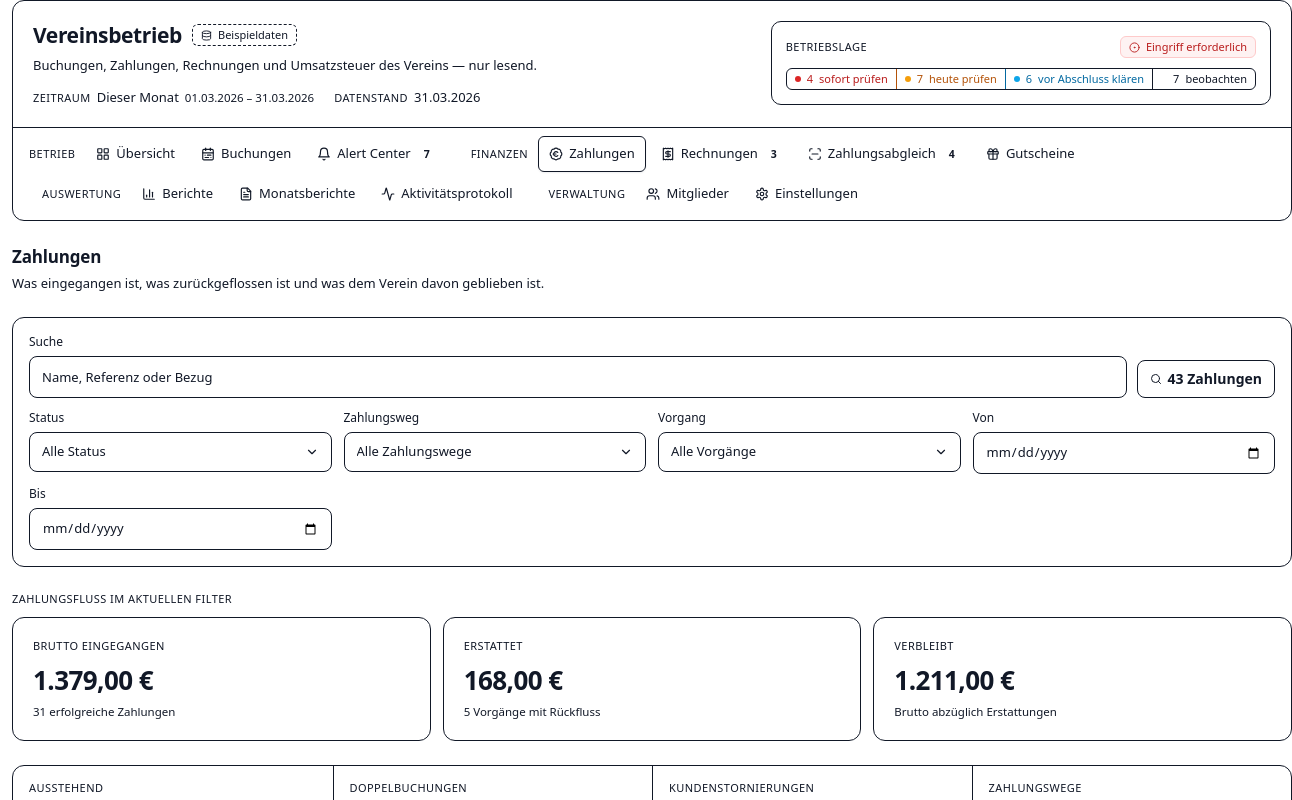
Test: active filters are visible and individually removable › names each active facet rather than only counting them
The image size is (1292, 800).
Step 1. Type "Schöllhammer" into the field labelled "Suche" → (578, 377), box [30,357,1126,397]
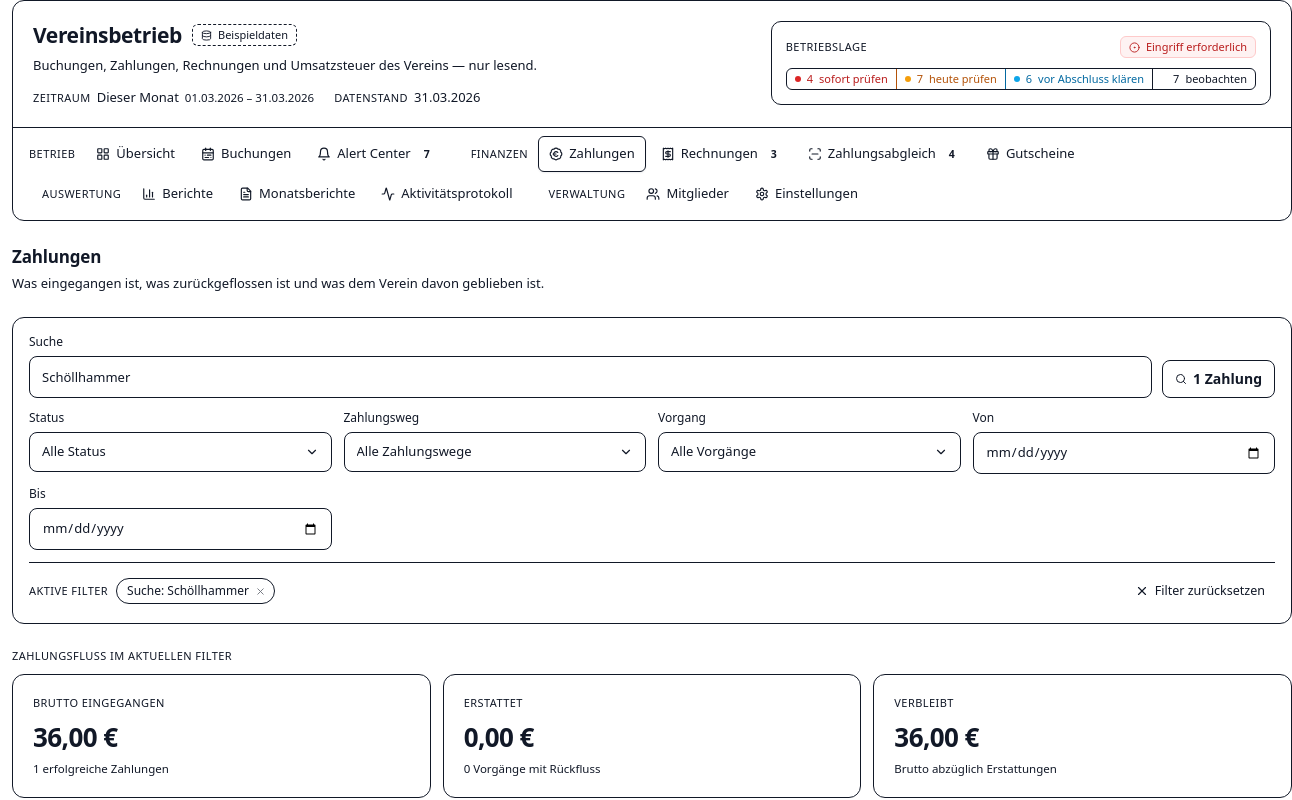
Expected: the text "Aktive Filter" is shown, [29,583,108,599]
Expected: the button with aria-label "Filter entfernen: Suche: Schöllhammer" is shown, [116,578,275,604]
